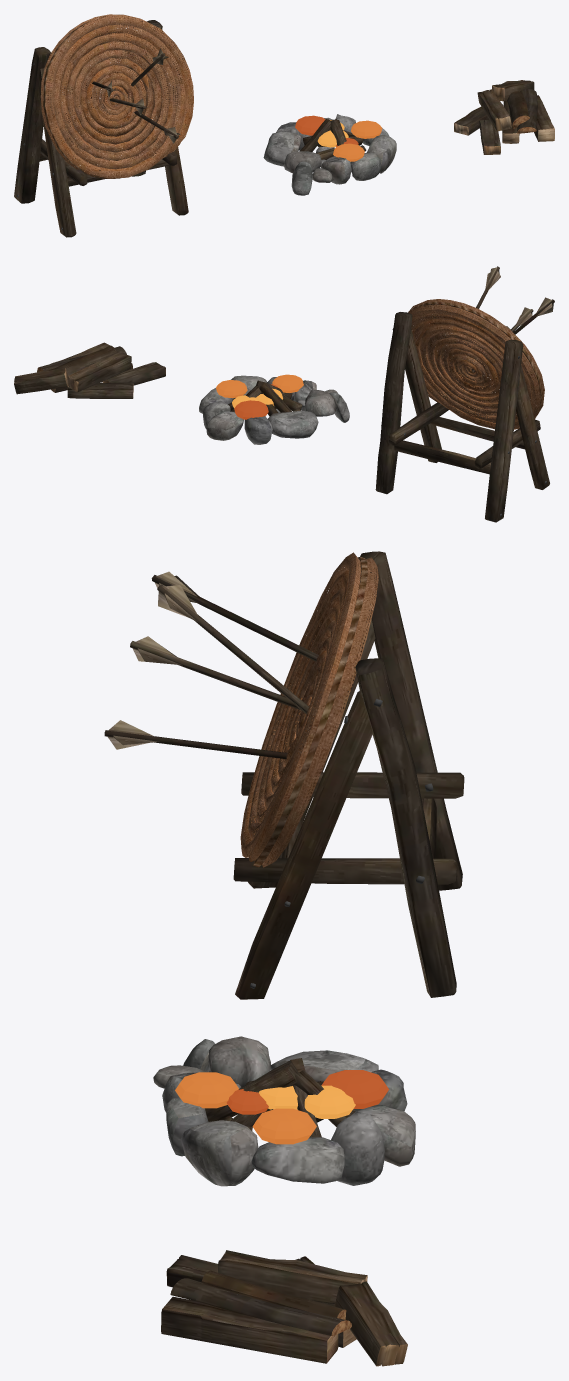
The model's file is hollowtale_diorama.glb.
3 views of the same model, one above another, from view 1: azimuth 30°, elevation 25°; view 2: azimuth 150°, elevation 25°; view 3: azimuth 270°, elevation 25° (orthographic). The views are drawn at different scales.
Parts seen in each view (by area): view 1: KB3D_VAL_Target_A_Main, KB3D_VAL_Bonfire_A_Main, KB3D_VAL_Firewood_B_Main, Sphere.001, Sphere.004, Sphere.003; view 2: KB3D_VAL_Target_A_Main, KB3D_VAL_Bonfire_A_Main, KB3D_VAL_Firewood_B_Main, Sphere.003, Sphere.001, Sphere.004; view 3: KB3D_VAL_Target_A_Main, KB3D_VAL_Bonfire_A_Main, KB3D_VAL_Firewood_B_Main, Sphere.001, Sphere.004, Sphere.003, Sphere.005.
Part boxes in pixels (x1=…): KB3D_VAL_Target_A_Main: x1=14, y1=14, x2=193, y2=237; KB3D_VAL_Bonfire_A_Main: x1=263, y1=114, x2=396, y2=195; KB3D_VAL_Firewood_B_Main: x1=454, y1=80, x2=554, y2=154; Sphere.001: x1=351, y1=120, x2=382, y2=138; Sphere.004: x1=333, y1=143, x2=364, y2=161; Sphere.003: x1=295, y1=115, x2=325, y2=135; KB3D_VAL_Target_A_Main: x1=375, y1=266, x2=554, y2=522; KB3D_VAL_Bonfire_A_Main: x1=199, y1=375, x2=349, y2=444; KB3D_VAL_Firewood_B_Main: x1=14, y1=342, x2=165, y2=398; Sphere.003: x1=234, y1=400, x2=268, y2=419; Sphere.001: x1=216, y1=380, x2=247, y2=398; Sphere.004: x1=272, y1=374, x2=303, y2=392; KB3D_VAL_Target_A_Main: x1=104, y1=551, x2=464, y2=999; KB3D_VAL_Bonfire_A_Main: x1=153, y1=1036, x2=415, y2=1186; KB3D_VAL_Firewood_B_Main: x1=161, y1=1250, x2=407, y2=1366; Sphere.001: x1=252, y1=1108, x2=316, y2=1144; Sphere.004: x1=175, y1=1072, x2=238, y2=1108; Sphere.003: x1=321, y1=1070, x2=388, y2=1108; Sphere.005: x1=304, y1=1085, x2=355, y2=1118.
Size of the model in its own units: 3.48 by 1.24 by 1.07.
11 materials, 8 textured.
